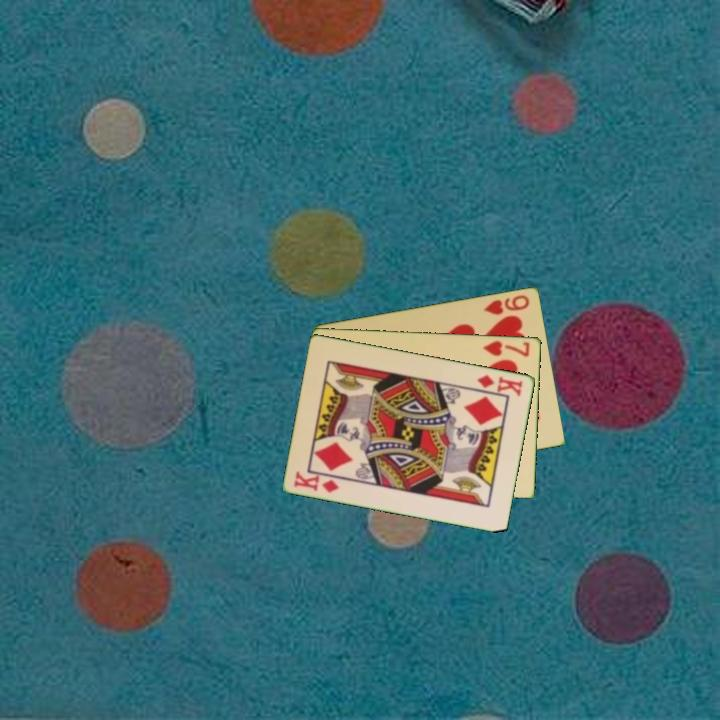7h: (480, 337, 532, 360)
9h: (480, 291, 532, 318)
Kd: (474, 371, 526, 399), (291, 468, 342, 495)
